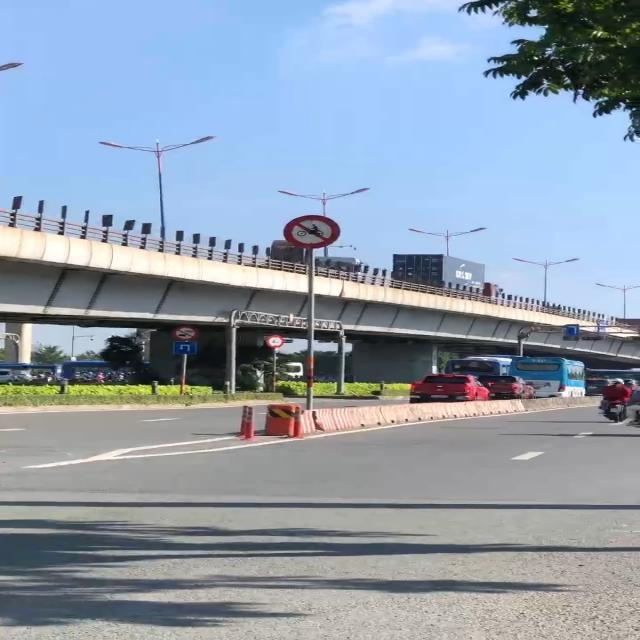Bien bao cam xe may: (283, 212, 345, 250)
Bien bao cam xe oto khach va xe oto tai: (169, 324, 201, 341)
